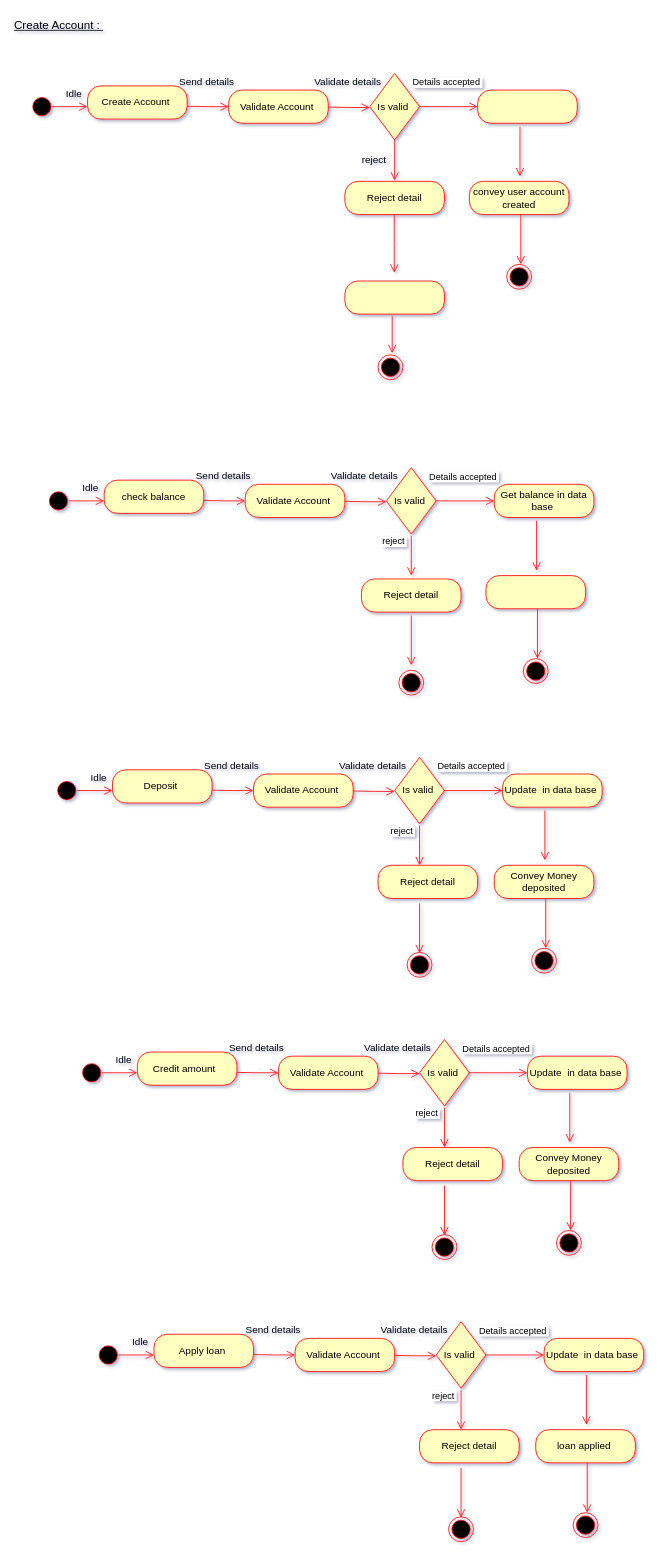
Image size: 663x1561. Some labels were removed from this diagram. The centre of each missing label's shape, as x and y in pixels:
convey user account Rejected: the point at 394,297
Create account in database: the point at 527,106
Display balance: the point at 535,592
